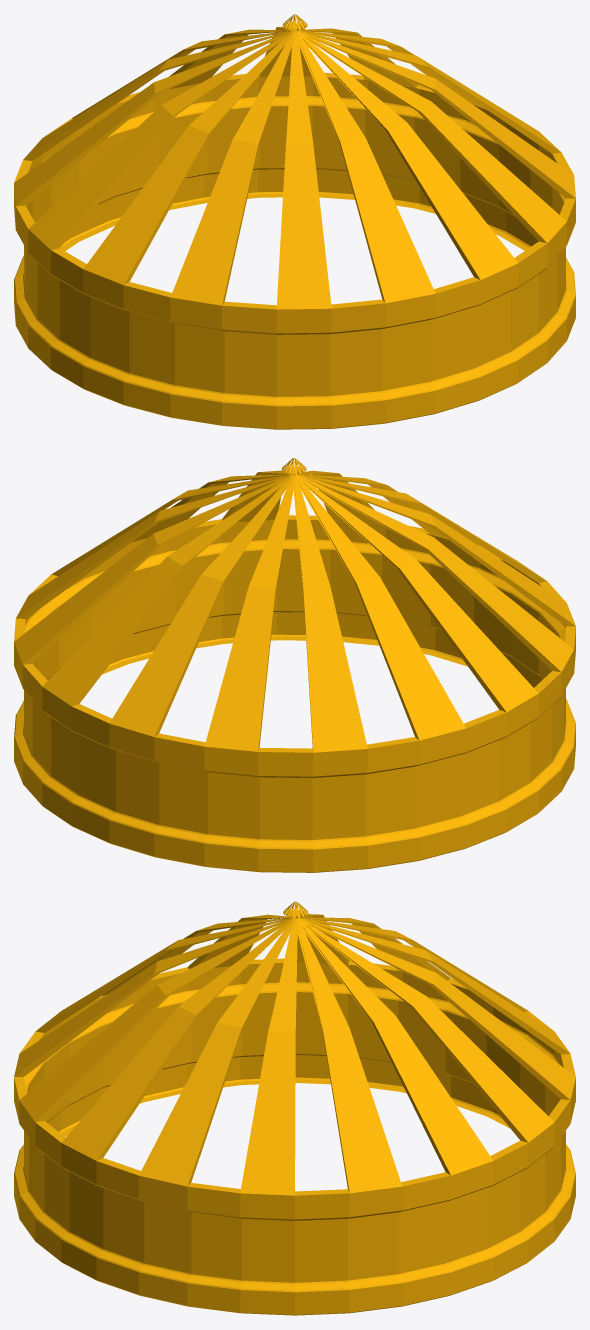
File: Crown.fbx
The picture shows the model from 3 angles, top to bottom: view 1: azimuth 30°, elevation 25°; view 2: azimuth 150°, elevation 25°; view 3: azimuth 270°, elevation 25°; orthographic projection.
Visible parts, largest first — view 1: Cylinder; view 2: Cylinder; view 3: Cylinder.
Boxes of the visible parts, box(x1,y1,x2,y2) form: Cylinder: box(14, 14, 575, 429); Cylinder: box(14, 458, 575, 872); Cylinder: box(14, 901, 575, 1315).
Size of the model in its own units: 418 by 242 by 418.
